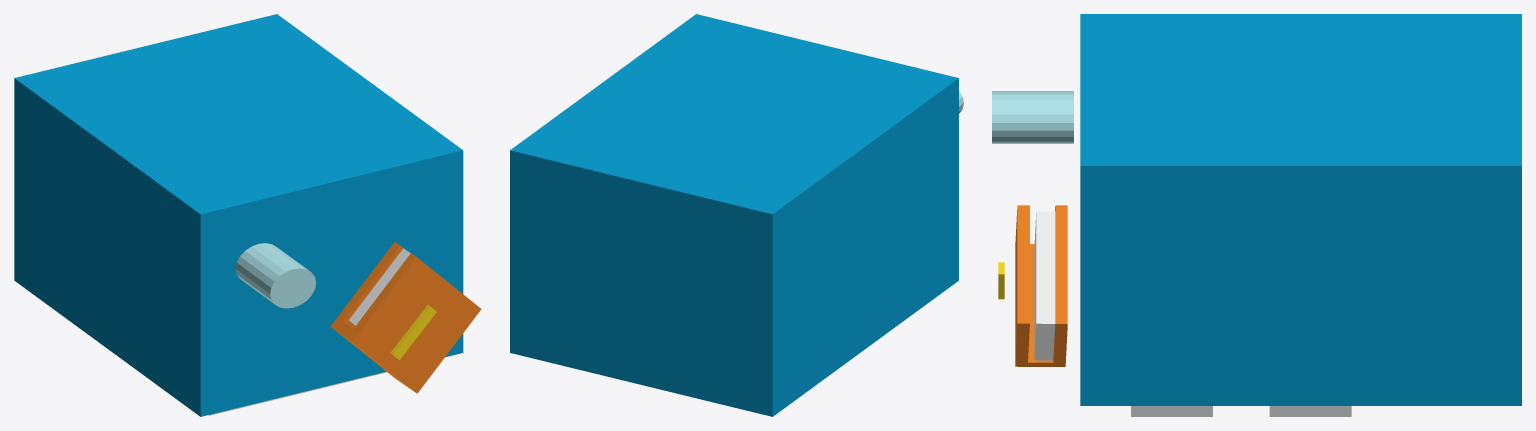
The model's file is tinker.obj.
3 renders of one model, left to right at view 1: azimuth 30°, elevation 25°; view 2: azimuth 150°, elevation 25°; view 3: azimuth 270°, elevation 25°, orthographic. The views are drawn at different scales.
Parts seen in each view (by area): view 1: group_0_40919, group_0_16089887, group_0_11593967, group_0_16448250, group_0_16768282; view 2: group_0_40919; view 3: group_0_40919, group_0_16089887, group_0_11593967, group_0_16448250, group_0_14541540.
Part boxes in pixels (x1,y1,x2,y2): group_0_40919: (14, 14, 463, 416); group_0_16089887: (330, 242, 481, 393); group_0_11593967: (235, 243, 316, 308); group_0_16448250: (349, 248, 410, 325); group_0_16768282: (390, 305, 436, 359); group_0_40919: (510, 14, 958, 416); group_0_40919: (1080, 14, 1521, 405); group_0_16089887: (1015, 205, 1067, 366); group_0_11593967: (992, 91, 1073, 143); group_0_16448250: (1034, 211, 1055, 360); group_0_14541540: (1131, 406, 1351, 416).
Size of the model in its own units: 57 by 47.5 by 84.
